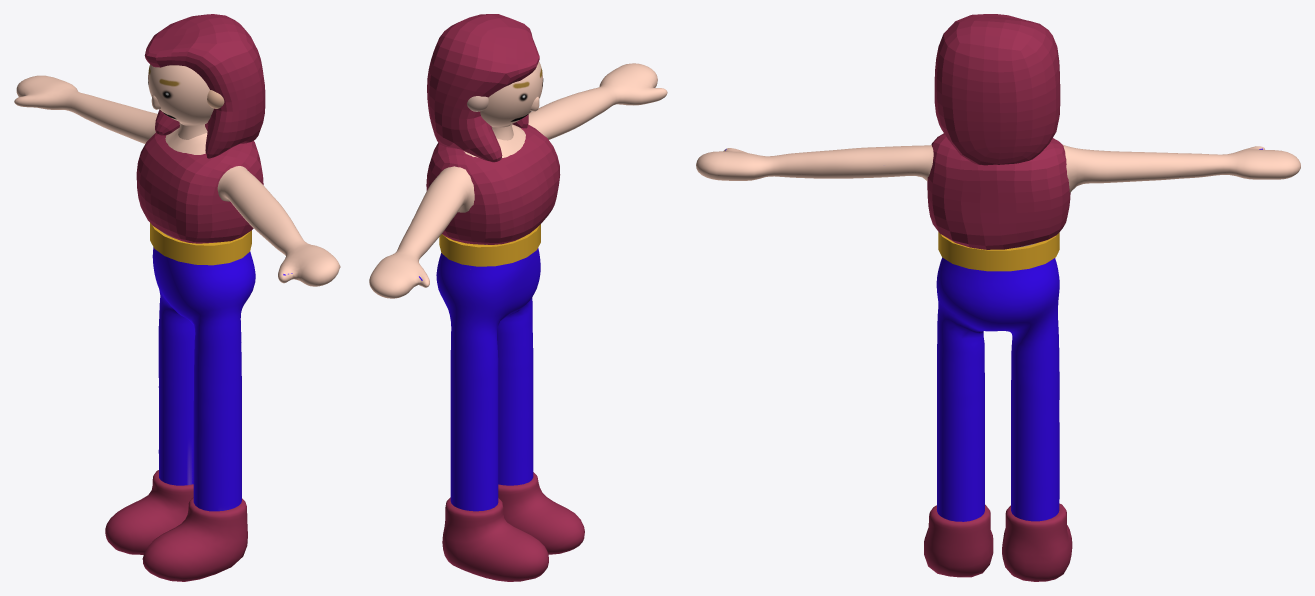
The model's file is NPC_Woman_T-Pose.fbx.
The picture shows the model from 3 angles, left to right: view 1: azimuth 30°, elevation 25°; view 2: azimuth 150°, elevation 25°; view 3: azimuth 270°, elevation 25°; orthographic projection. The views are drawn at different scales.
Parts seen in each view (by area): view 1: Capsule.008, Retopo_Capsule.004, Retopo_Capsule.006, Retopo_Capsule.003, Retopo_Capsule.007, Capsule.005; view 2: Capsule.008, Retopo_Capsule.004, Retopo_Capsule.006, Retopo_Capsule.007, Retopo_Capsule.003, Capsule.005; view 3: Capsule.008, Retopo_Capsule.004, Retopo_Capsule.006, Retopo_Capsule.007, Retopo_Capsule.003, Capsule.005.
Boxes of the visible parts, left/top/right/bottom form: Capsule.008: left=14, top=64, right=340, bottom=511; Retopo_Capsule.004: left=144, top=14, right=265, bottom=158; Retopo_Capsule.006: left=136, top=133, right=263, bottom=243; Retopo_Capsule.003: left=142, top=497, right=247, bottom=581; Retopo_Capsule.007: left=105, top=470, right=193, bottom=554; Capsule.005: left=150, top=223, right=251, bottom=265; Capsule.008: left=369, top=61, right=667, bottom=511; Retopo_Capsule.004: left=427, top=14, right=539, bottom=162; Retopo_Capsule.006: left=426, top=124, right=560, bottom=244; Retopo_Capsule.007: left=442, top=497, right=548, bottom=581; Retopo_Capsule.003: left=498, top=472, right=584, bottom=554; Capsule.005: left=439, top=224, right=540, bottom=266; Capsule.008: left=696, top=144, right=1300, bottom=521; Retopo_Capsule.004: left=934, top=14, right=1060, bottom=165; Retopo_Capsule.006: left=927, top=133, right=1070, bottom=249; Retopo_Capsule.007: left=1002, top=503, right=1072, bottom=581; Retopo_Capsule.003: left=924, top=504, right=993, bottom=577; Capsule.005: left=938, top=232, right=1059, bottom=271.
Bounding box in the file's own units: 42.22 × 168 × 164.
